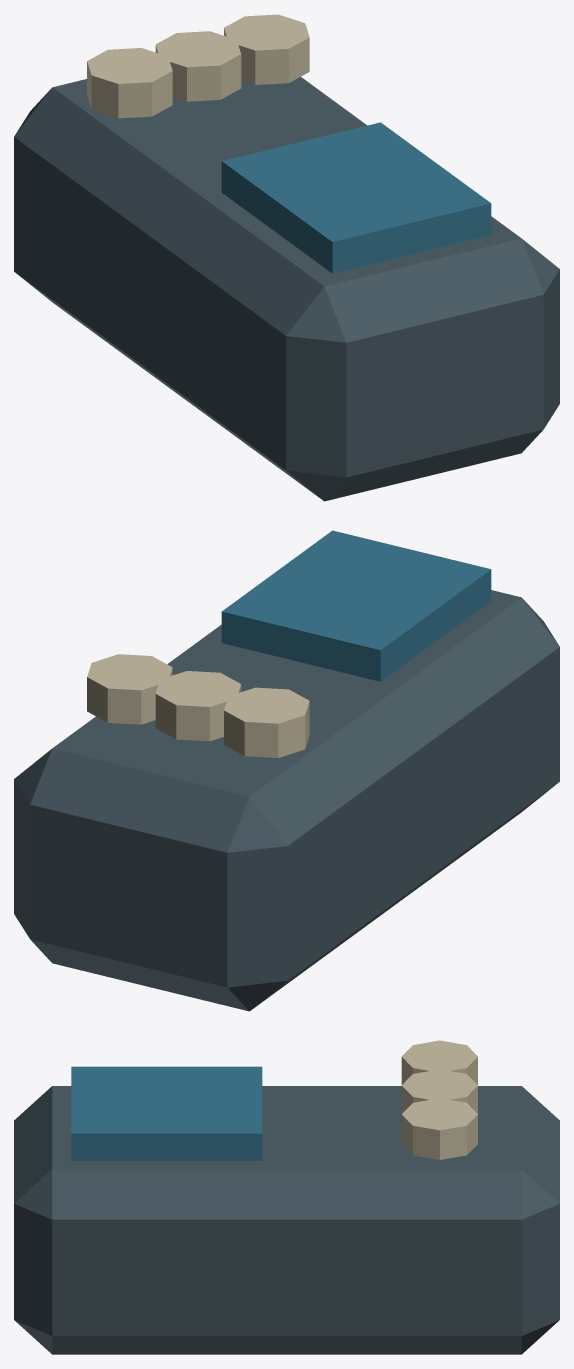
The model's file is set_sample_box.glb.
3 views of the same model, one above another, from view 1: azimuth 30°, elevation 25°; view 2: azimuth 150°, elevation 25°; view 3: azimuth 270°, elevation 25° (orthographic). The views are drawn at different scales.
Parts seen in each view (by area): view 1: set_sample_box; view 2: set_sample_box; view 3: set_sample_box.
Boxes of the visible parts, x1=… form: set_sample_box: x1=14, y1=14, x2=559, y2=501; set_sample_box: x1=14, y1=530, x2=559, y2=1011; set_sample_box: x1=14, y1=1040, x2=559, y2=1354.
Bounding box in the file's own units: 0.1 × 0.092 × 0.2.
